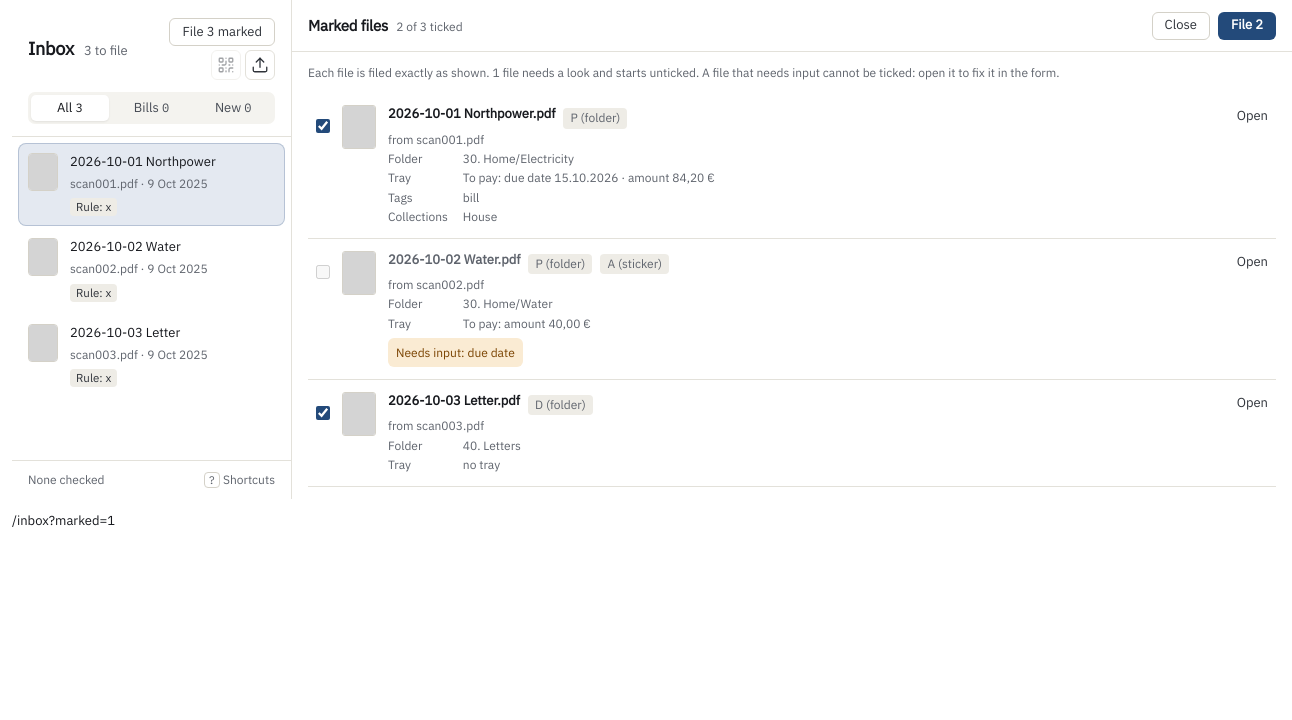
File N marked › says when the rows changed while File was previewing
Expected: the list item "2026-10-03 Letter.pdf" is shown, [308,380,1276,487]
Click the button "File 2" at (1247, 26), box [1218,12,1276,40]
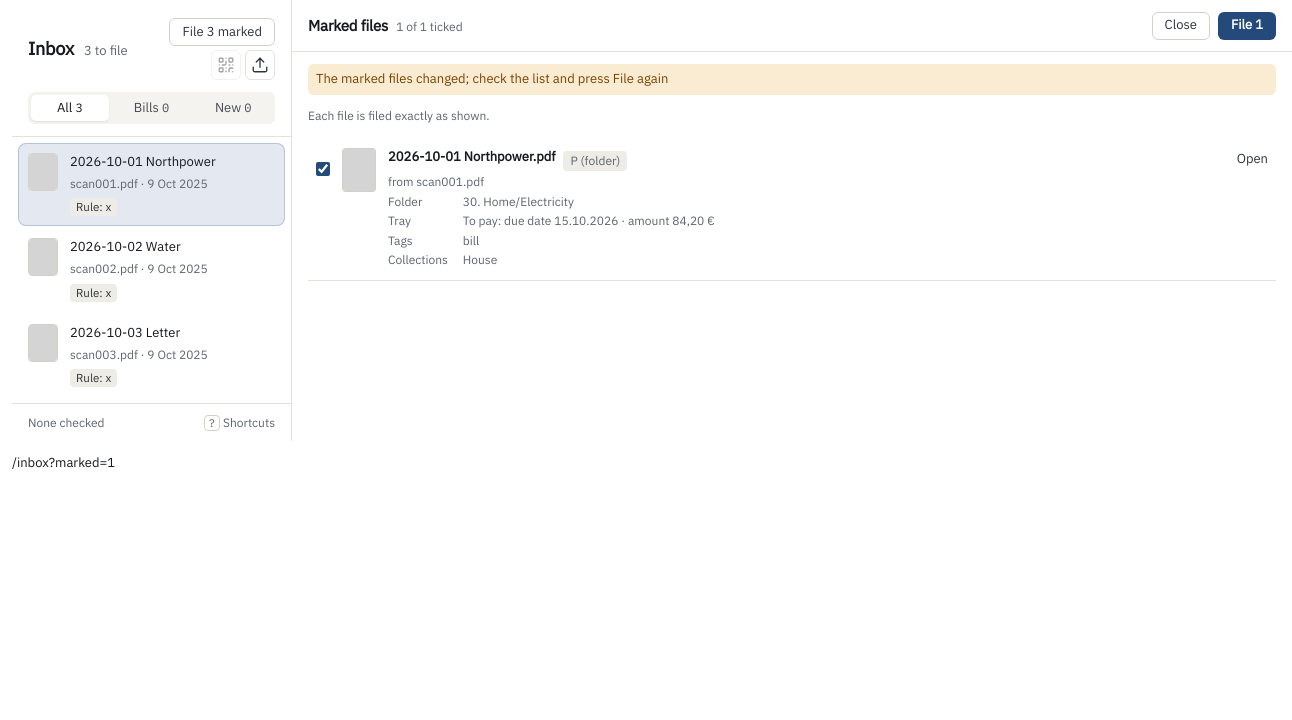
Result: the text "2026-10-03 Letter.pdf" is gone
Result: the text "The marked files changed; check the list and press File again" is shown at [308,64,1276,95]
